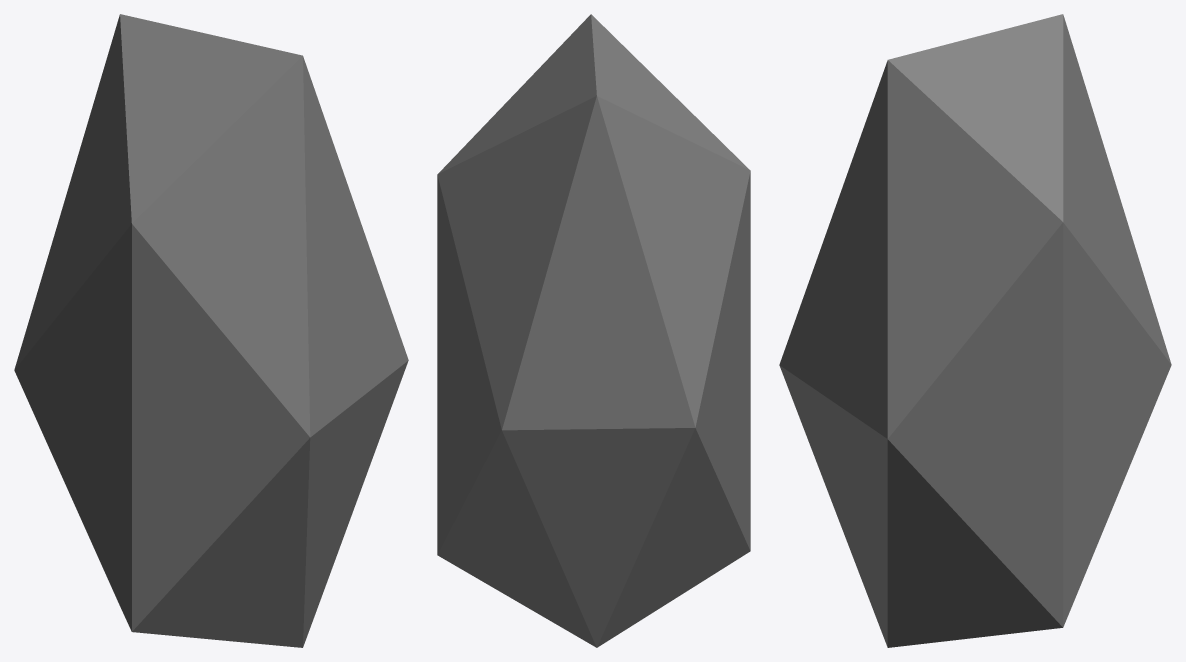
Rendered from Golem_LegUp.fbx.
3 renders of one model, left to right at view 1: azimuth 30°, elevation 25°; view 2: azimuth 150°, elevation 25°; view 3: azimuth 270°, elevation 25°, orthographic. The views are drawn at different scales.
Visible parts, largest first — view 1: LegUp; view 2: LegUp; view 3: LegUp.
Part boxes in pixels (x1,y1,x2,y2): LegUp: (14, 14, 408, 647); LegUp: (437, 14, 750, 647); LegUp: (779, 14, 1171, 647).
Size of the model in its own units: 55.66 by 103 by 62.23.
1 material, 1 textured.
